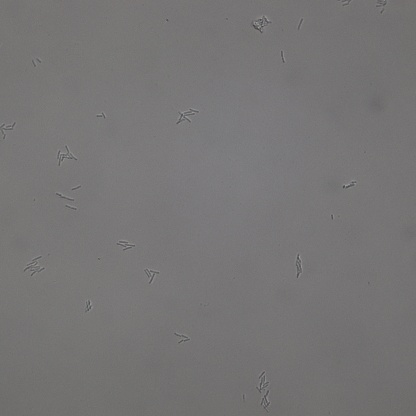R(colony): (57, 146, 78, 165), (24, 259, 46, 277), (177, 107, 199, 124), (252, 16, 271, 32), (257, 371, 270, 393), (261, 390, 272, 414), (294, 254, 304, 277), (117, 240, 135, 251), (145, 269, 159, 283), (1, 123, 14, 136), (176, 333, 191, 344), (341, 180, 357, 190), (375, 1, 388, 12), (31, 58, 42, 67), (96, 112, 106, 120)
